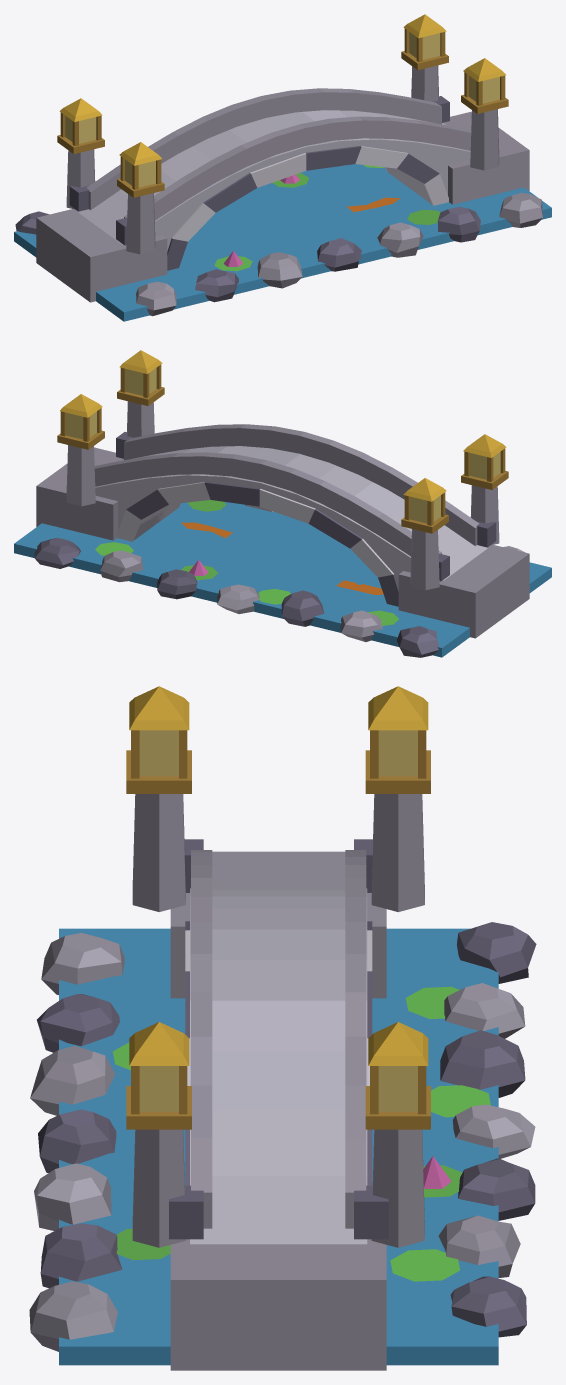
Rendered from Decor_WizardTower_Bridge.fbx.
The picture shows the model from 3 angles, top to bottom: view 1: azimuth 30°, elevation 25°; view 2: azimuth 150°, elevation 25°; view 3: azimuth 270°, elevation 25°; orthographic projection. The views are drawn at different scales.
Parts seen in each view (by area): view 1: Bridge_Body; view 2: Bridge_Body; view 3: Bridge_Body.
Boxes of the visible parts, bbox=[...] form: Bridge_Body: bbox=[14, 14, 551, 321]; Bridge_Body: bbox=[14, 350, 551, 657]; Bridge_Body: bbox=[29, 686, 536, 1370].
Bounding box in the file's own units: 24 × 7.9 × 12.
